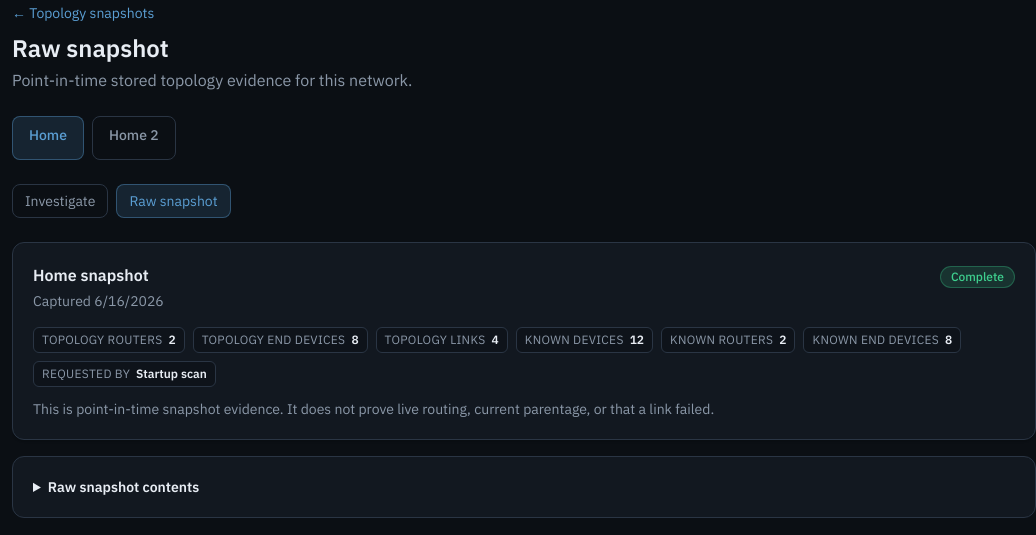
Test: TopologyPage › can navigate to home2 via network link
Click the link "Home 2" at (134, 138), box left=92, top=116, right=176, bottom=160
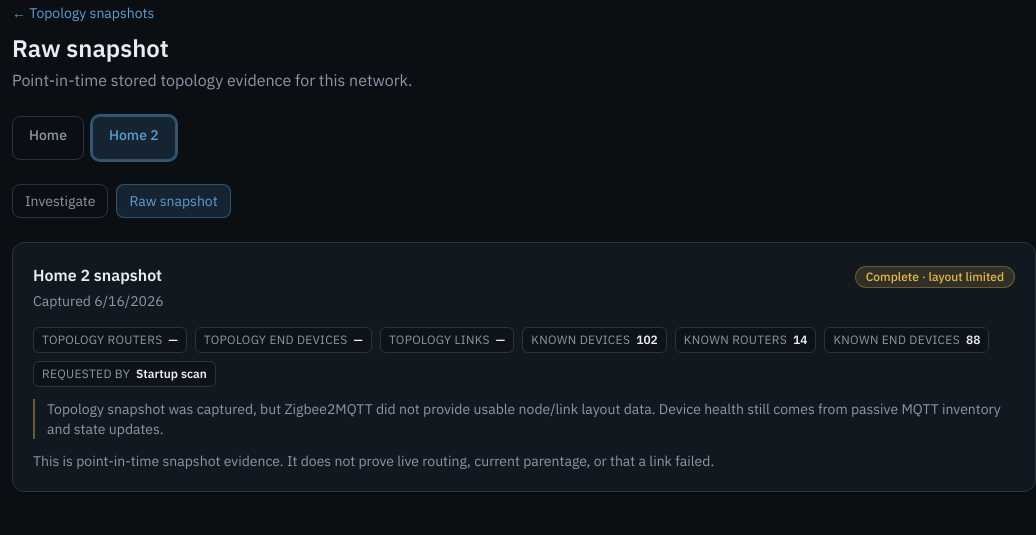
Expected: the heading "Home 2 snapshot" is shown, left=33, top=265, right=162, bottom=285
Expected: the text "Topology snapshot was captured, but Zigbee2MQTT did not provide usable node/link layout data. Device health still comes " is shown, left=47, top=400, right=1001, bottom=438
Expected: the text "102" is shown, left=636, top=332, right=658, bottom=348
